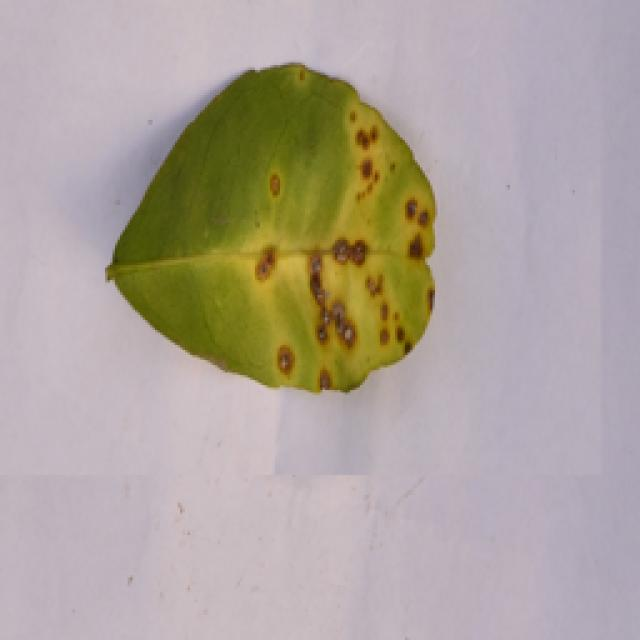canker: (113, 66, 449, 382)
